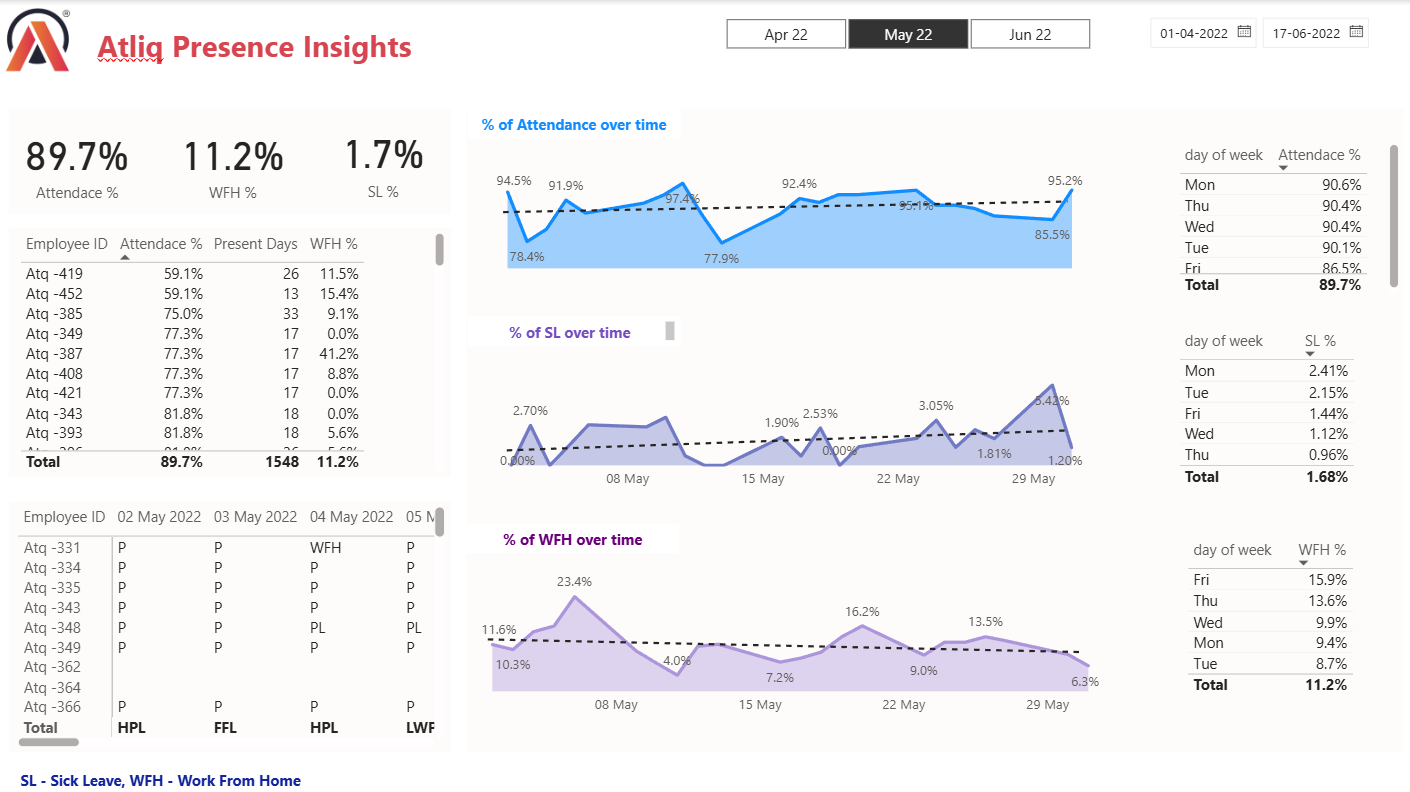

The page's visual inventory and layout, read from the dashboard file:
{"tool":"powerbi","page":{"name":"Presence Insights","canvas":[1280,720],"ordinal":0},"visuals":[{"type":"textbox","box":[7.8,205.6,399.9,225.5],"z":0},{"type":"textbox","box":[7.8,453.3,399.8,227.6],"z":1000},{"type":"textbox","box":[422.3,97.9,848.1,582.3],"z":2000},{"type":"textbox","box":[7.8,98,399.9,95.4],"z":3000},{"type":"tableEx","fields":{"Values":["Final Data.Employee ID","Measures (2).Attendace %","Measures (2).Present Days","Measures (2).WFH %"]},"box":[12.6,205.2,394.9,225.7],"z":4000},{"type":"slicer","fields":{"Values":["Final Data.Date"]},"box":[1027.3,5.2,252.7,46.3],"z":5000},{"type":"slicer","fields":{"Values":["Final Data.MMM YY"]},"box":[630.4,10.5,379.5,35.8],"z":6000},{"type":"areaChart","fields":{"Category":["Final Data.MMM YY","Final Data.Date"],"Y":["Measures (2).WFH %"]},"box":[420.7,502.3,589,153.5],"z":7000},{"type":"areaChart","fields":{"Category":["Final Data.WeekNo","Final Data.Date"],"Y":["Measures (2).Attendace %"]},"box":[444.1,144.9,540.4,103.2],"z":8000},{"type":"card","fields":{"Values":["Measures (2).Attendace %"]},"box":[7.8,98,124,96.3],"z":9000},{"type":"card","fields":{"Values":["Measures (2).WFH %"]},"box":[141.4,98,138.8,96.3],"z":10000},{"type":"areaChart","fields":{"Category":["Final Data.MMM YY","Final Data.Date"],"Y":["Measures (2).SL %"]},"box":[437.2,326.7,557,124.4],"z":11000},{"type":"image","box":[0,0,70,71],"z":12000},{"type":"card","fields":{"Values":["Measures (2).SL %"]},"box":[286.3,97.2,121.4,96.3],"z":13000},{"type":"textbox","box":[70.3,0,320.1,71.1],"z":14000},{"type":"textbox","box":[422.4,98.2,192.5,27.5],"z":15000},{"type":"textbox","box":[422.5,286.3,192.6,26.9],"z":16000},{"type":"textbox","box":[422.1,473.7,192.6,27.2],"z":17000},{"type":"pivotTable","fields":{"Rows":["Final Data.Employee ID"],"Columns":["Final Data.Date"],"Values":["Min(Final Data.Value)"]},"box":[11.7,453.3,395.9,227.6],"z":18000},{"type":"textbox","box":[13.6,691.6,289.8,28.2],"z":19000},{"type":"tableEx","fields":{"Values":["Final Data.day of week","Measures (2).Attendace %"]},"box":[1060.9,125.8,209.9,145.7],"z":20000},{"type":"tableEx","fields":{"Values":["Final Data.day of week","Measures (2).SL %"]},"box":[1060.9,294.1,191.7,167.4],"z":21000},{"type":"tableEx","fields":{"Values":["Final Data.day of week","Measures (2).WFH %"]},"box":[1068.7,483.2,170,167.4],"z":22000}]}

Visuals, with their boxes in screenshot pixels (x1, y1, x2, y2), scaled from the page's 1280x720 canvas onto the 1410x792 screenshot:
textbox: x1=9 y1=226 x2=449 y2=474
textbox: x1=9 y1=499 x2=449 y2=749
textbox: x1=465 y1=108 x2=1399 y2=748
textbox: x1=9 y1=108 x2=449 y2=213
tableEx - Final Data.Employee ID x Measures (2).Attendace %: x1=14 y1=226 x2=449 y2=474
slicer - Final Data.Date: x1=1132 y1=6 x2=1409 y2=57
slicer - Final Data.MMM YY: x1=694 y1=12 x2=1112 y2=51
areaChart - Final Data.MMM YY x Final Data.Date: x1=463 y1=553 x2=1112 y2=721
areaChart - Final Data.WeekNo x Final Data.Date: x1=489 y1=159 x2=1084 y2=273
card - Measures (2).Attendace %: x1=9 y1=108 x2=145 y2=214
card - Measures (2).WFH %: x1=156 y1=108 x2=309 y2=214
areaChart - Final Data.MMM YY x Final Data.Date: x1=482 y1=359 x2=1095 y2=496
image: x1=0 y1=0 x2=77 y2=78
card - Measures (2).SL %: x1=315 y1=107 x2=449 y2=213
textbox: x1=77 y1=0 x2=430 y2=78
textbox: x1=465 y1=108 x2=677 y2=138
textbox: x1=465 y1=315 x2=678 y2=345
textbox: x1=465 y1=521 x2=677 y2=551
pivotTable - Final Data.Employee ID x Final Data.Date: x1=13 y1=499 x2=449 y2=749
textbox: x1=15 y1=761 x2=334 y2=791
tableEx - Final Data.day of week x Measures (2).Attendace %: x1=1169 y1=138 x2=1400 y2=299
tableEx - Final Data.day of week x Measures (2).SL %: x1=1169 y1=324 x2=1380 y2=508
tableEx - Final Data.day of week x Measures (2).WFH %: x1=1177 y1=532 x2=1365 y2=716
